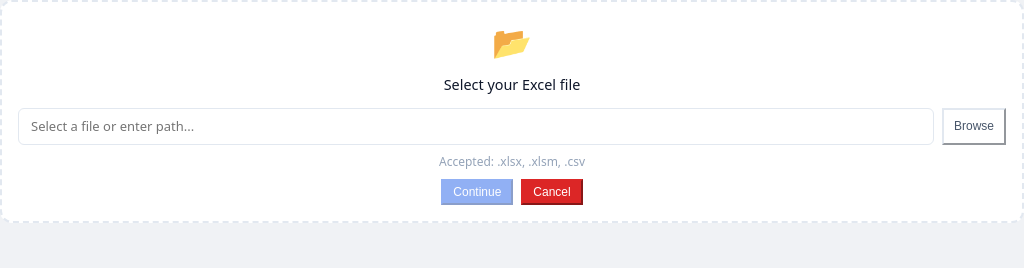
Test case: FilePickerCard › shows error for unsupported extension entered via text
Type "test.pdf" into the field with placeholder "Select a file or enter path..." at {"x": 476, "y": 126}, box [18,108,934,145]
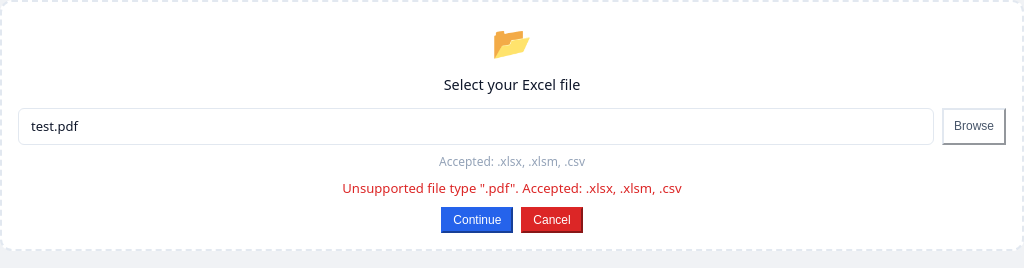
Check: the text "Unsupported file type \".pdf\". Accepted: .xlsx, .xlsm, .csv" is shown, box [342,179,682,197]
